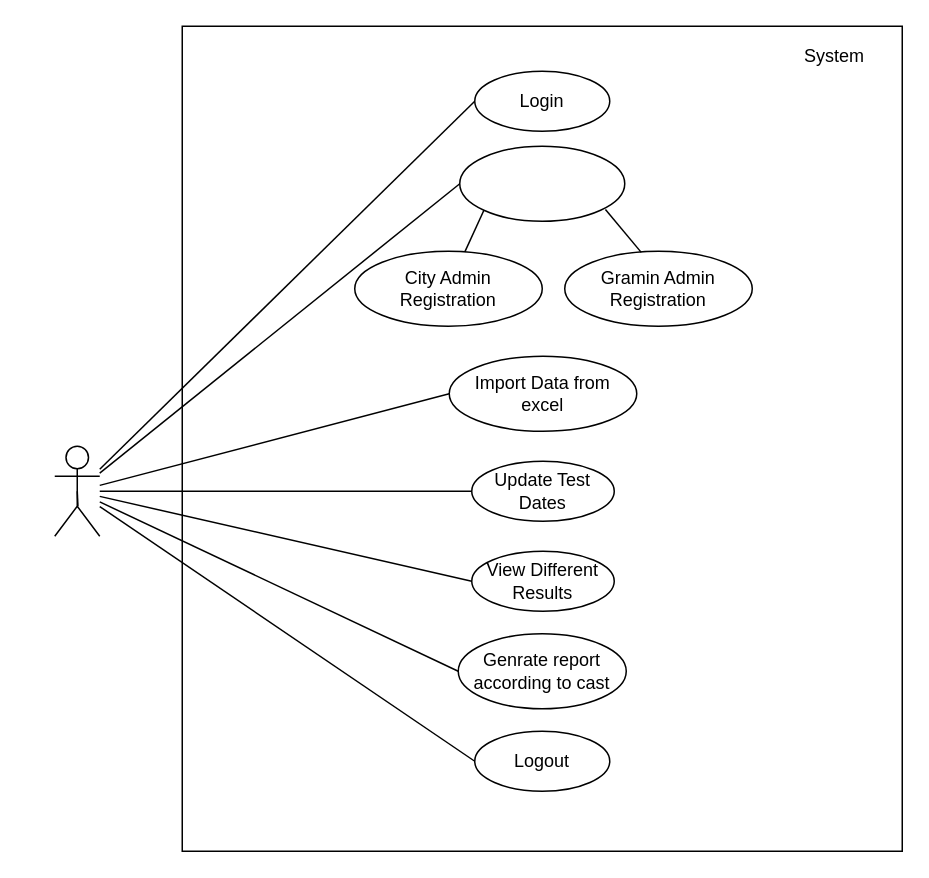
Some shapes in this 929 by 878 pixel diagram are drawn without their labels. Each missing label, with the centre of its shape:
Sub admin Registration: (541,183)
Super Admin: (76,490)
